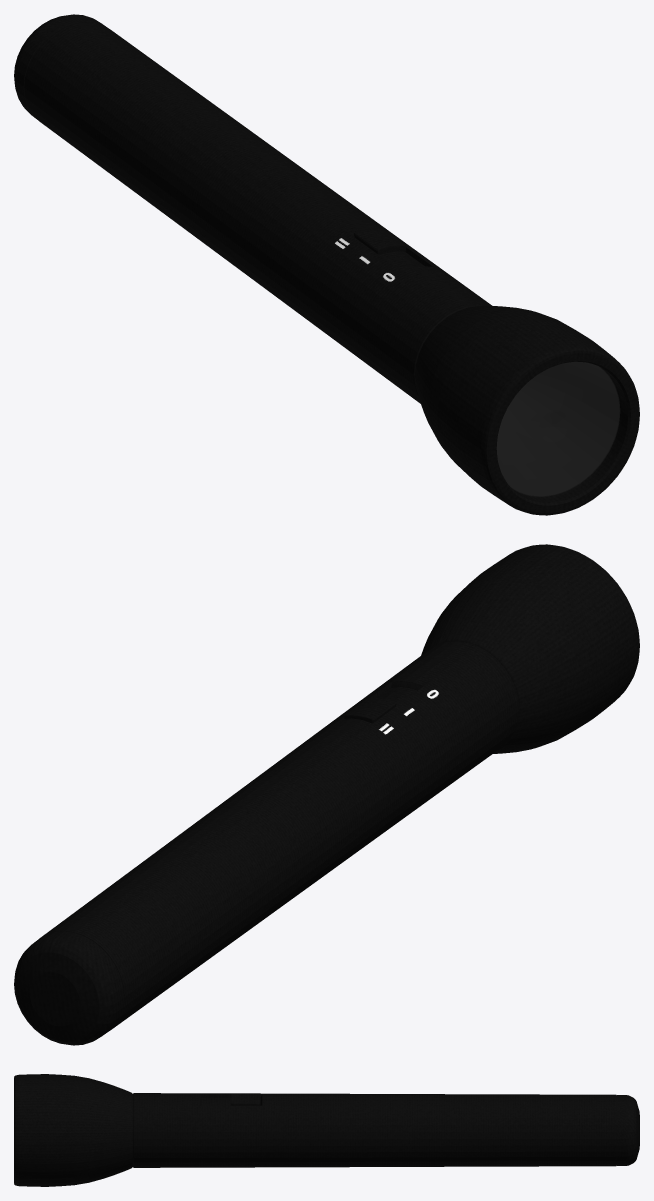
File: flashlight.fbx
The picture shows the model from 3 angles, top to bottom: view 1: azimuth 30°, elevation 25°; view 2: azimuth 150°, elevation 25°; view 3: azimuth 270°, elevation 25°; orthographic projection. The views are drawn at different scales.
Visible parts, largest first — view 1: CSFlashLight_4480.Shape; view 2: CSFlashLight_4480.Shape; view 3: CSFlashLight_4480.Shape.
Part boxes in pixels (x1,y1,x2,y2): CSFlashLight_4480.Shape: (14, 14, 639, 515); CSFlashLight_4480.Shape: (14, 544, 639, 1045); CSFlashLight_4480.Shape: (14, 1074, 639, 1186).
Bounding box in the file's own units: 6.27 × 6.27 × 34.74.
Materials: 8 (2 with a texture image).
